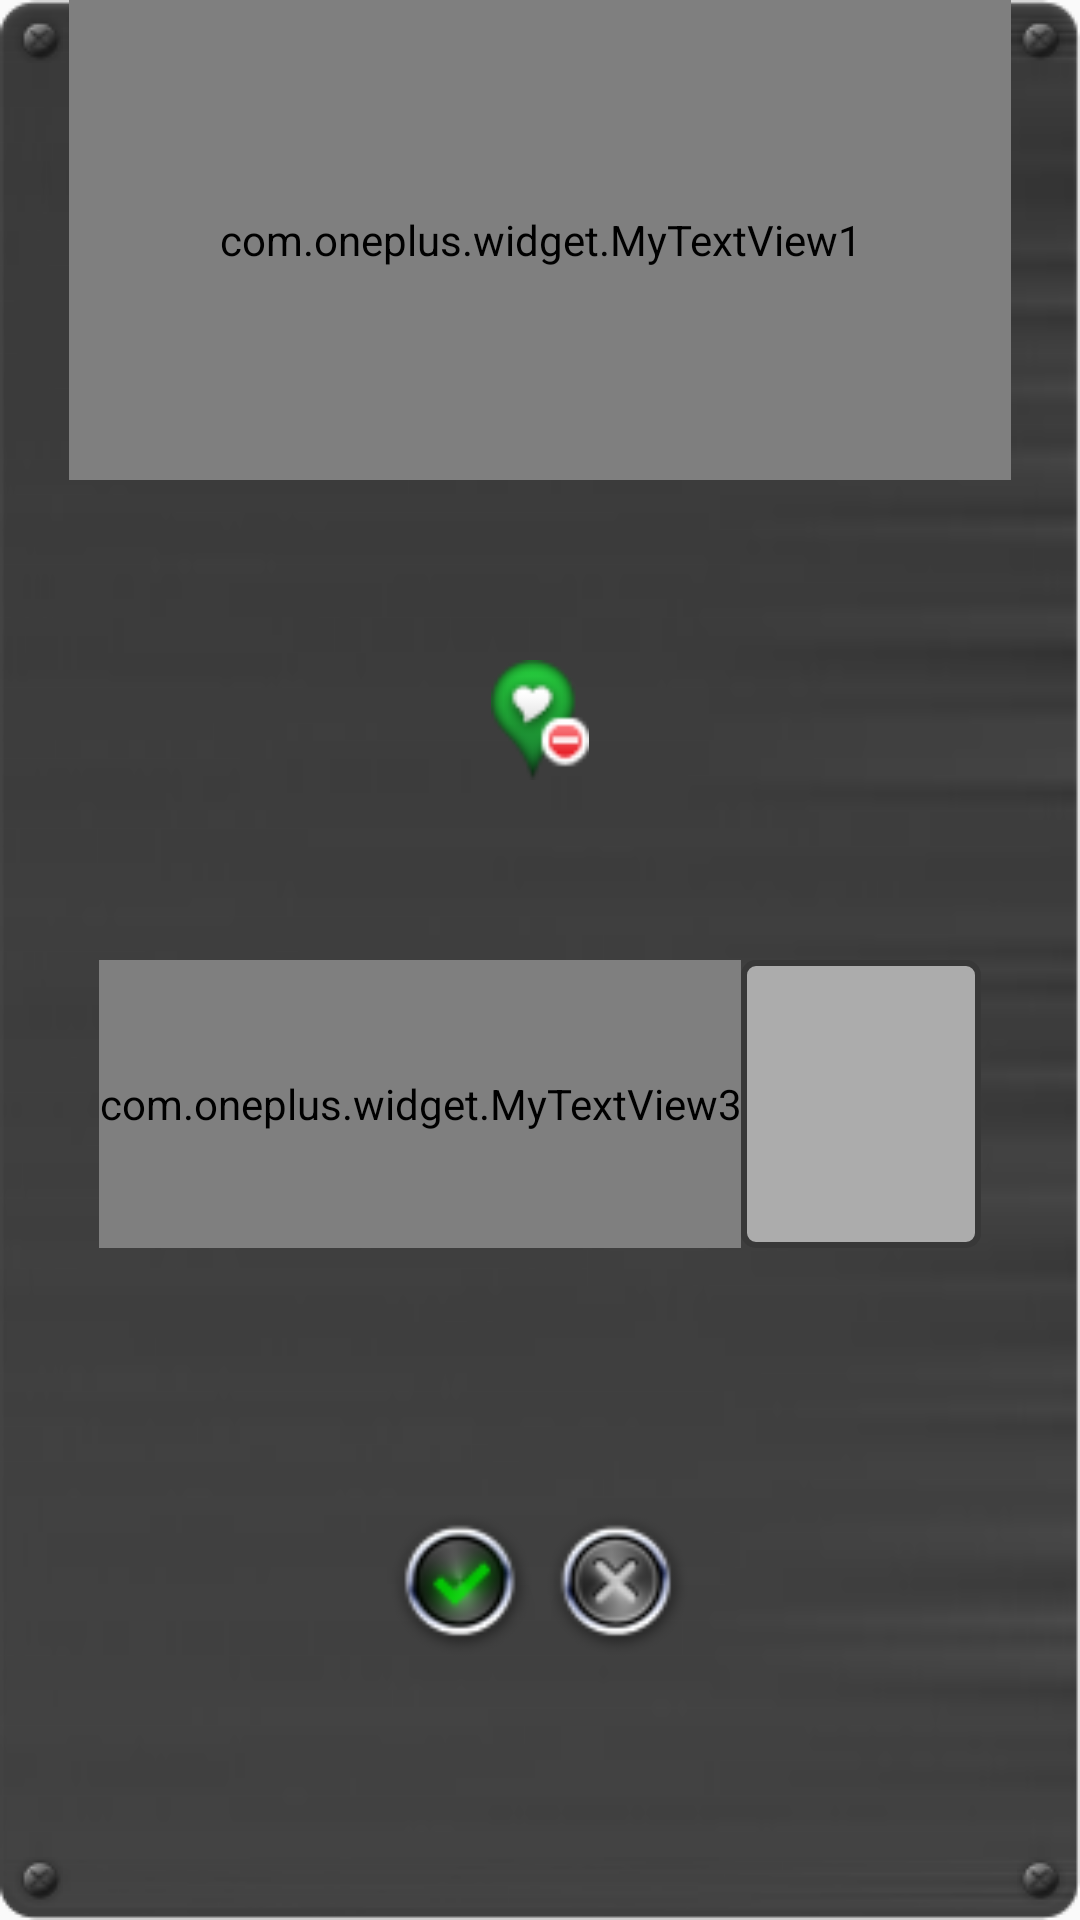

Screen size 1080 x 1920. Icon name, then its box in pixels as Rect(x1, y1, x2, y2):
cancel: Rect(561, 1526, 671, 1636)
friend delete: Rect(491, 660, 589, 776)
ok on: Rect(405, 1526, 514, 1636)
